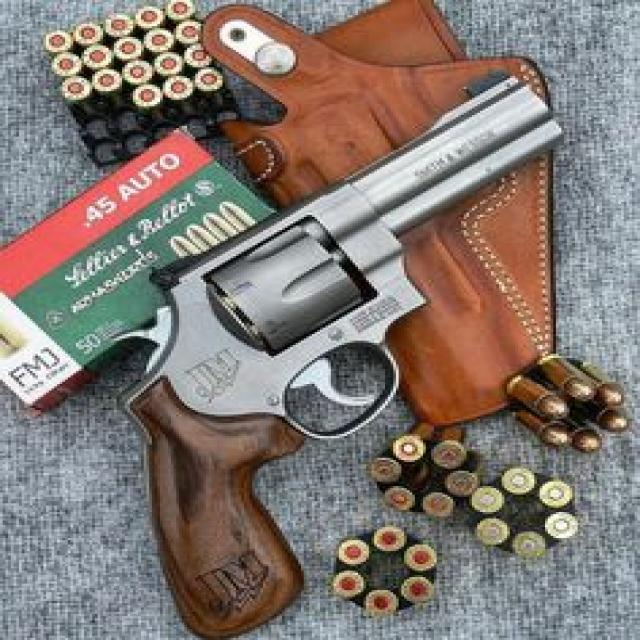revolver: (100, 64, 598, 640)
